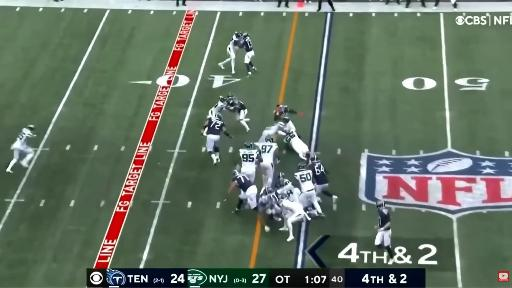Helmet: (264, 136, 274, 144), (377, 200, 385, 209), (228, 92, 235, 102), (234, 31, 242, 39), (233, 170, 241, 178), (283, 116, 291, 124), (298, 163, 307, 170), (244, 142, 253, 149), (277, 105, 284, 114), (311, 155, 318, 163), (27, 124, 35, 130), (277, 173, 285, 179), (215, 114, 222, 120), (219, 95, 225, 102), (242, 32, 247, 38)
Jersey: (278, 179, 298, 201), (309, 162, 328, 185), (295, 170, 314, 192), (256, 143, 277, 162), (240, 149, 259, 169), (233, 174, 253, 192), (14, 128, 33, 146), (282, 199, 303, 213), (207, 119, 224, 135), (378, 207, 390, 228), (266, 122, 285, 134), (275, 105, 288, 120), (243, 35, 253, 52), (212, 101, 225, 114), (284, 131, 298, 143), (285, 121, 296, 131), (237, 101, 246, 112)
Player: (228, 170, 269, 231), (295, 163, 324, 216), (202, 114, 231, 165), (280, 195, 310, 241), (309, 154, 337, 203), (6, 126, 35, 172), (375, 200, 394, 264), (255, 137, 279, 186), (219, 32, 241, 74), (239, 143, 262, 181), (259, 187, 281, 221), (284, 131, 309, 160), (228, 97, 249, 131), (276, 173, 300, 201), (207, 94, 233, 118), (242, 33, 256, 75), (258, 122, 285, 142), (274, 105, 297, 121), (278, 116, 296, 135)
